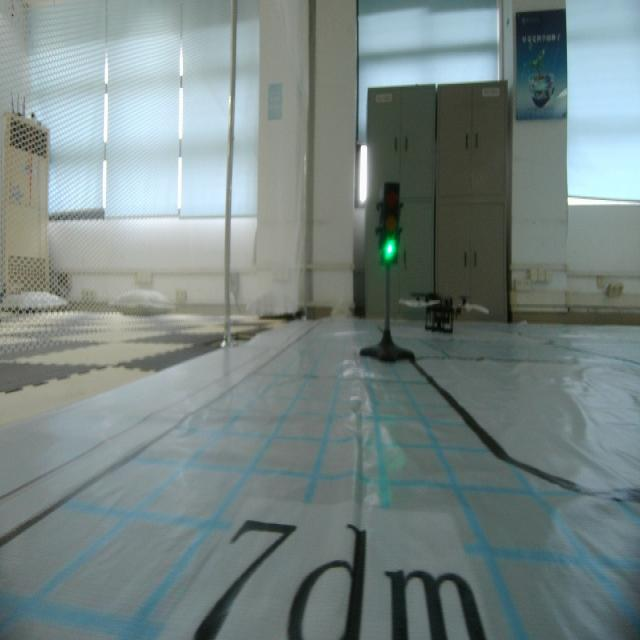green: (378, 185, 403, 264)
